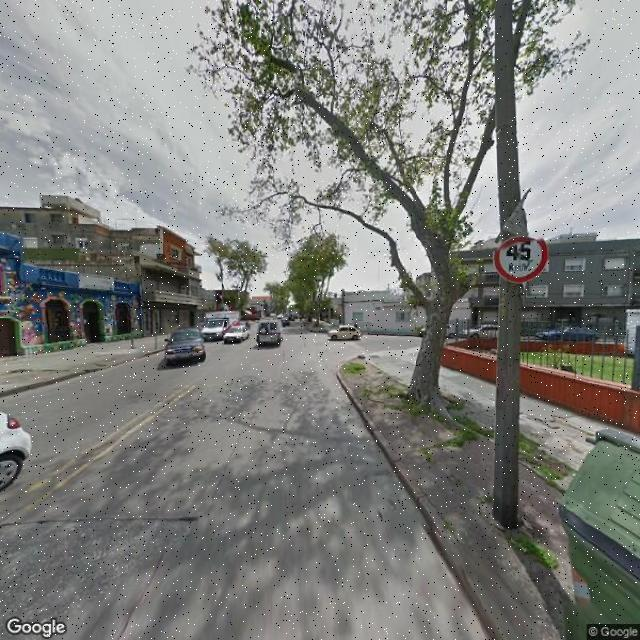garbage container: (548, 424, 639, 640)
